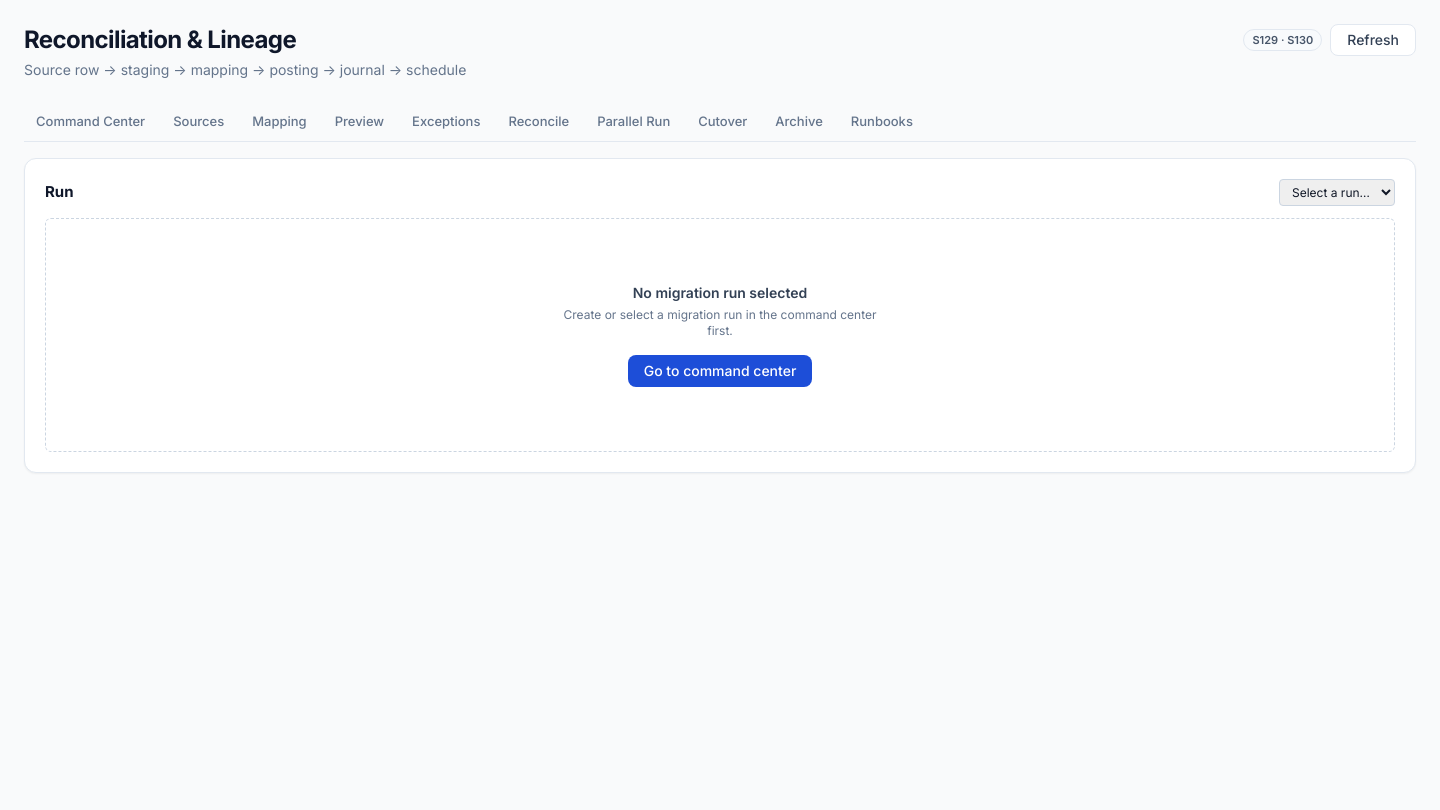
Scenario: MigrationReconcile › states the G2 subledger conservation result
Select "run-a" in the dropdown with test id "reconcile-run-select": (1337, 192) [1279,178,1395,206]
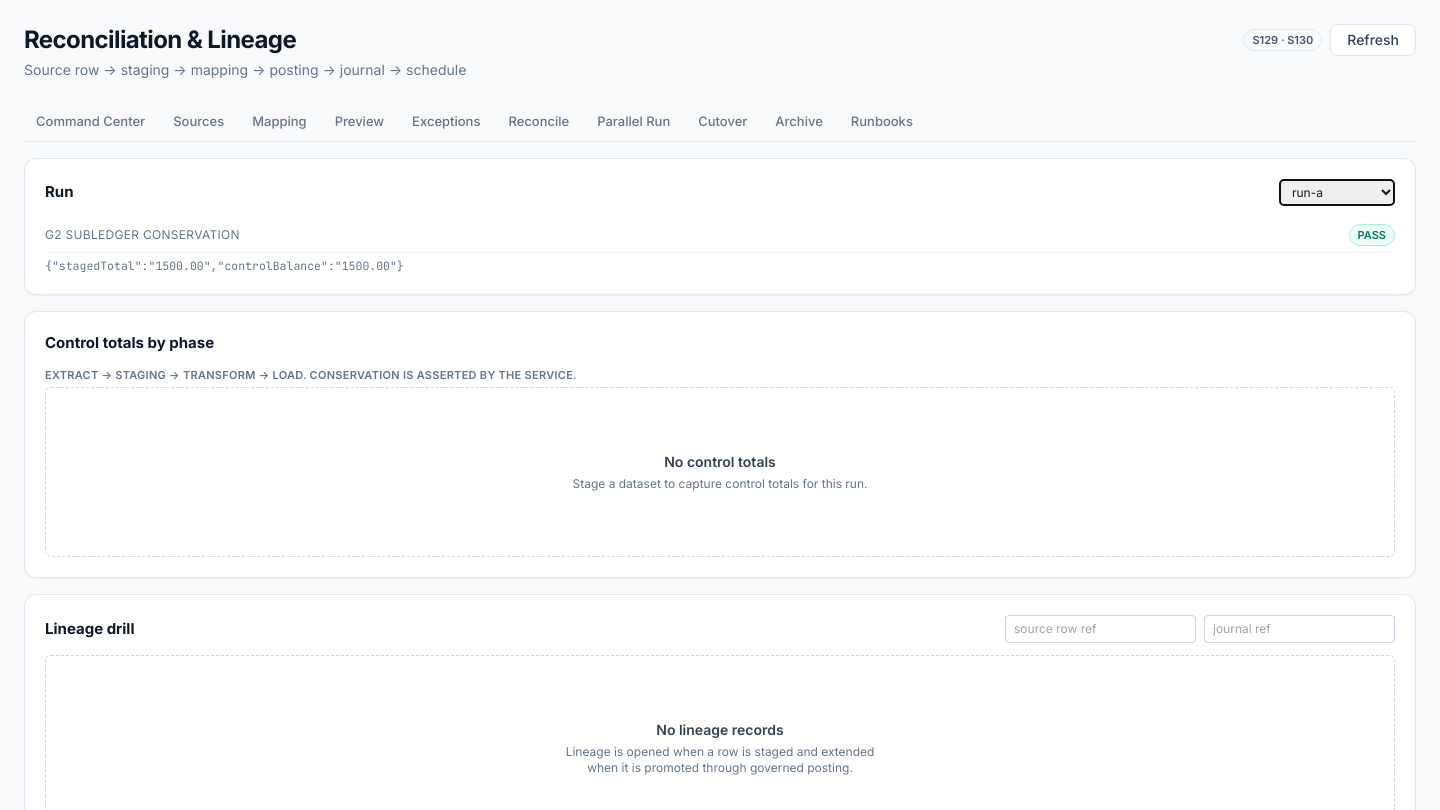
Expected: the element with test id "reconcile-g2" reads "PASS", [1358,228,1386,242]
Expected: the text with test id "reconcile-g2-detail" shows "1500.00", [45,258,404,273]
